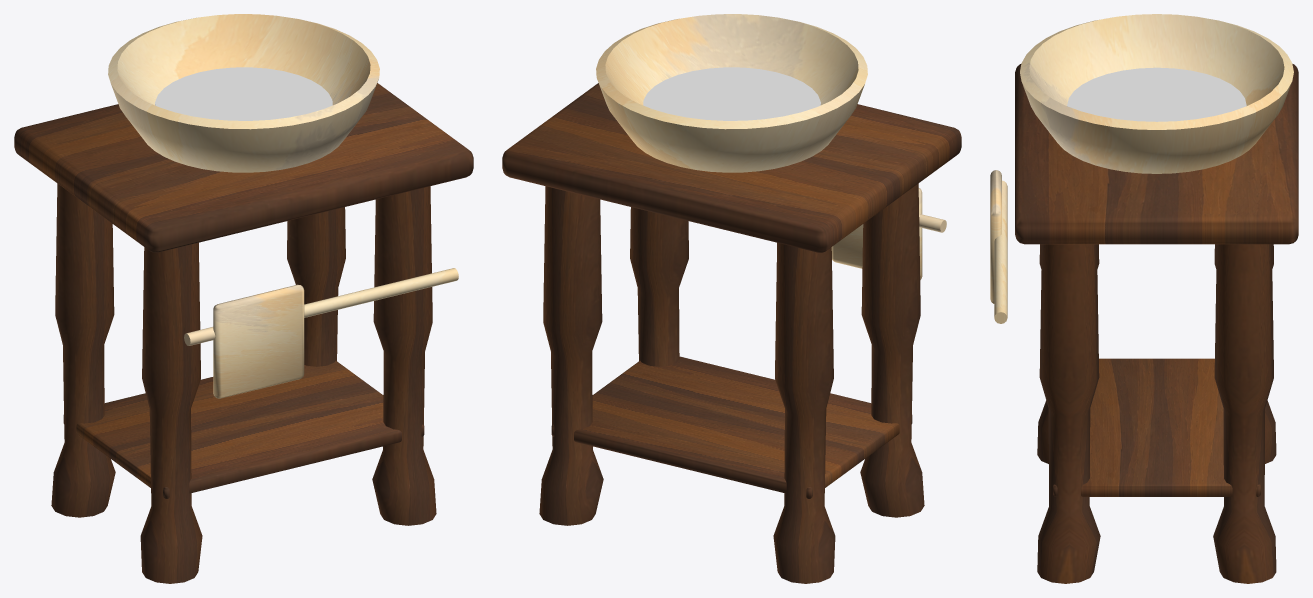
Rendered from CM_AF01_Washstand.fbx.
The picture shows the model from 3 angles, left to right: view 1: azimuth 30°, elevation 25°; view 2: azimuth 150°, elevation 25°; view 3: azimuth 270°, elevation 25°; orthographic projection.
Visible parts, largest first — view 1: CM_AF01_Washstand; view 2: CM_AF01_Washstand; view 3: CM_AF01_Washstand.
Boxes of the visible parts, x1=… form: CM_AF01_Washstand: x1=14, y1=14, x2=473, y2=583; CM_AF01_Washstand: x1=502, y1=14, x2=961, y2=583; CM_AF01_Washstand: x1=990, y1=14, x2=1298, y2=583.
Size of the model in its own units: 0.8 by 1.04 by 0.6525.
